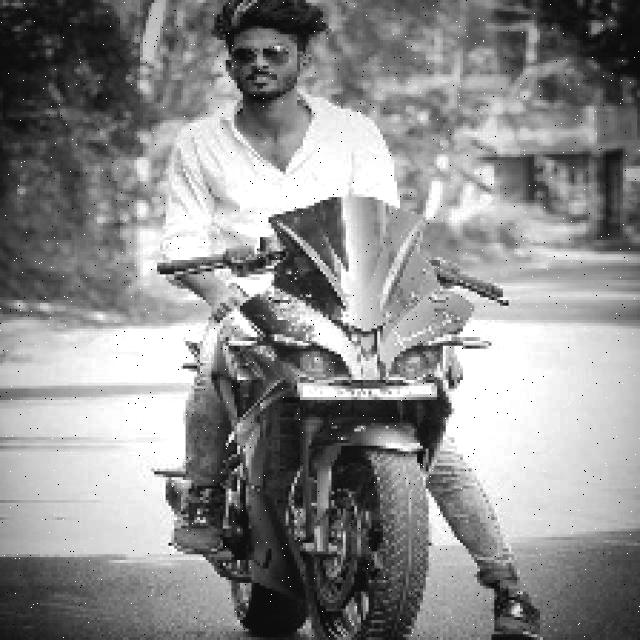Bike: (180, 228, 466, 637)
